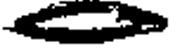Mouth: (2, 1, 172, 45)
